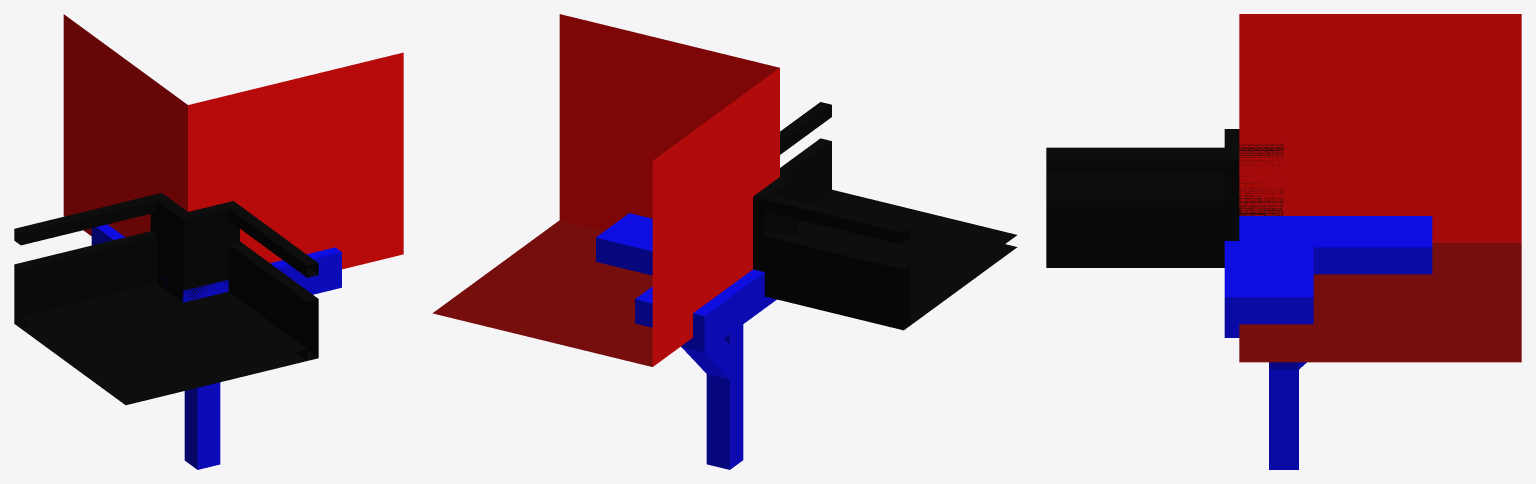
Rendered from BigStrut_E_E_A_E_E_P_E_E_None.fbx.
The picture shows the model from 3 angles, left to right: view 1: azimuth 30°, elevation 25°; view 2: azimuth 150°, elevation 25°; view 3: azimuth 270°, elevation 25°; orthographic projection. The views are drawn at different scales.
Parts seen in each view (by area): view 1: BigStrut_E_E_A_E_E_P_E_E_None; view 2: BigStrut_E_E_A_E_E_P_E_E_None; view 3: BigStrut_E_E_A_E_E_P_E_E_None.
Boxes of the visible parts, <box> form: BigStrut_E_E_A_E_E_P_E_E_None: <box>14,14,403,469</box>; BigStrut_E_E_A_E_E_P_E_E_None: <box>432,14,1017,469</box>; BigStrut_E_E_A_E_E_P_E_E_None: <box>1046,14,1521,469</box>.
Size of the model in its own units: 100 by 100 by 100.
